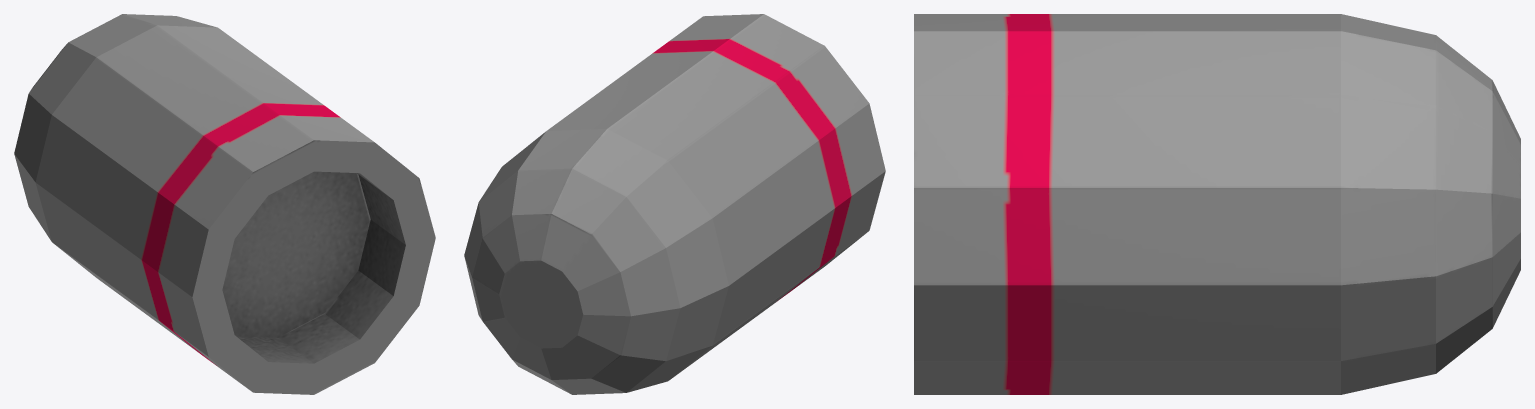
Rendered from bullet.obj.
3 views of the same model, side by side, from view 1: azimuth 30°, elevation 25°; view 2: azimuth 150°, elevation 25°; view 3: azimuth 270°, elevation 25° (orthographic). The views are drawn at different scales.
Visible parts, largest first — view 1: Circle_Circle.001; view 2: Circle_Circle.001; view 3: Circle_Circle.001.
Part boxes in pixels (x1,y1,x2,y2): Circle_Circle.001: [14, 14, 435, 394]; Circle_Circle.001: [464, 14, 885, 394]; Circle_Circle.001: [914, 14, 1520, 394].
Size of the model in its own units: 2 by 2 by 3.17.
